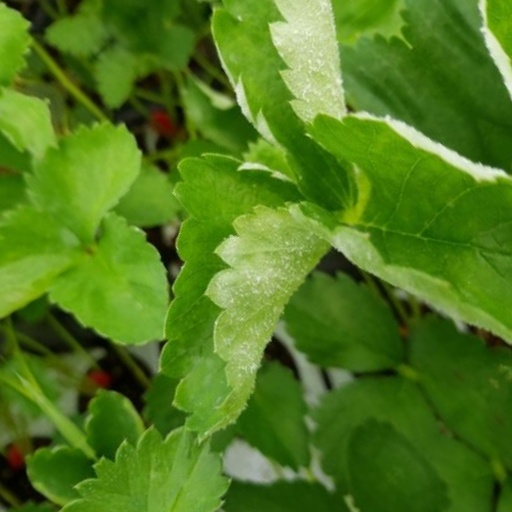Powdery Mildew Leaf: (0, 190, 203, 511), (176, 135, 427, 363), (0, 7, 182, 282)
